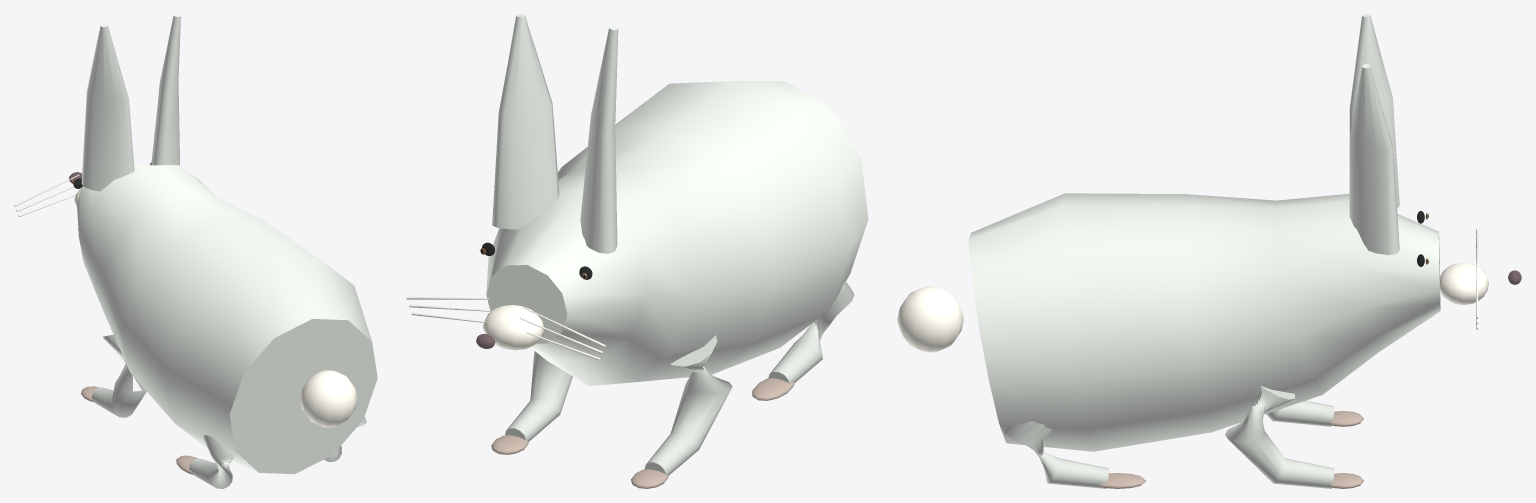
The model's file is rabbit_hero.glb.
3 views of the same model, side by side, from view 1: azimuth 30°, elevation 25°; view 2: azimuth 150°, elevation 25°; view 3: azimuth 270°, elevation 25° (orthographic). The views are drawn at different scales.
Parts seen in each view (by area): view 1: RabbitOrganicBody, Ear, Ear2, TailPivot, Leg_LF, Leg_LH; view 2: RabbitOrganicBody, Ear2, Ear, Leg_LF, Leg_RF, Leg_LH, Muzzle, Paw_LH, Paw_RF, Paw_LF; view 3: RabbitOrganicBody, Ear2, Leg_RF, TailPivot, Leg_RH, Ear, Muzzle, Leg_LF.
Part boxes in pixels (x1,y1,x2,y2): RabbitOrganicBody: (77, 165, 377, 474); Ear: (81, 23, 134, 191); Ear2: (151, 14, 180, 165); TailPivot: (300, 370, 357, 427); Leg_LF: (91, 334, 146, 417); Leg_LH: (189, 435, 238, 488); RabbitOrganicBody: (486, 81, 868, 386); Ear2: (492, 14, 559, 229); Ear: (580, 26, 618, 253); Leg_LF: (644, 335, 732, 475); Leg_RF: (505, 351, 572, 441); Leg_LH: (768, 281, 854, 383); Muzzle: (483, 305, 544, 350); Paw_LH: (752, 378, 794, 400); Paw_RF: (491, 435, 528, 454); Paw_LF: (631, 469, 668, 488); RabbitOrganicBody: (968, 193, 1440, 451); Ear2: (1349, 64, 1399, 254); Leg_RF: (1225, 386, 1334, 488); TailPivot: (897, 286, 963, 352); Leg_RH: (1003, 421, 1108, 488); Ear: (1349, 14, 1399, 208); Muzzle: (1440, 262, 1488, 304); Leg_LF: (1266, 400, 1334, 426).
Size of the model in its own units: 1.59 by 2.77 by 3.73.
